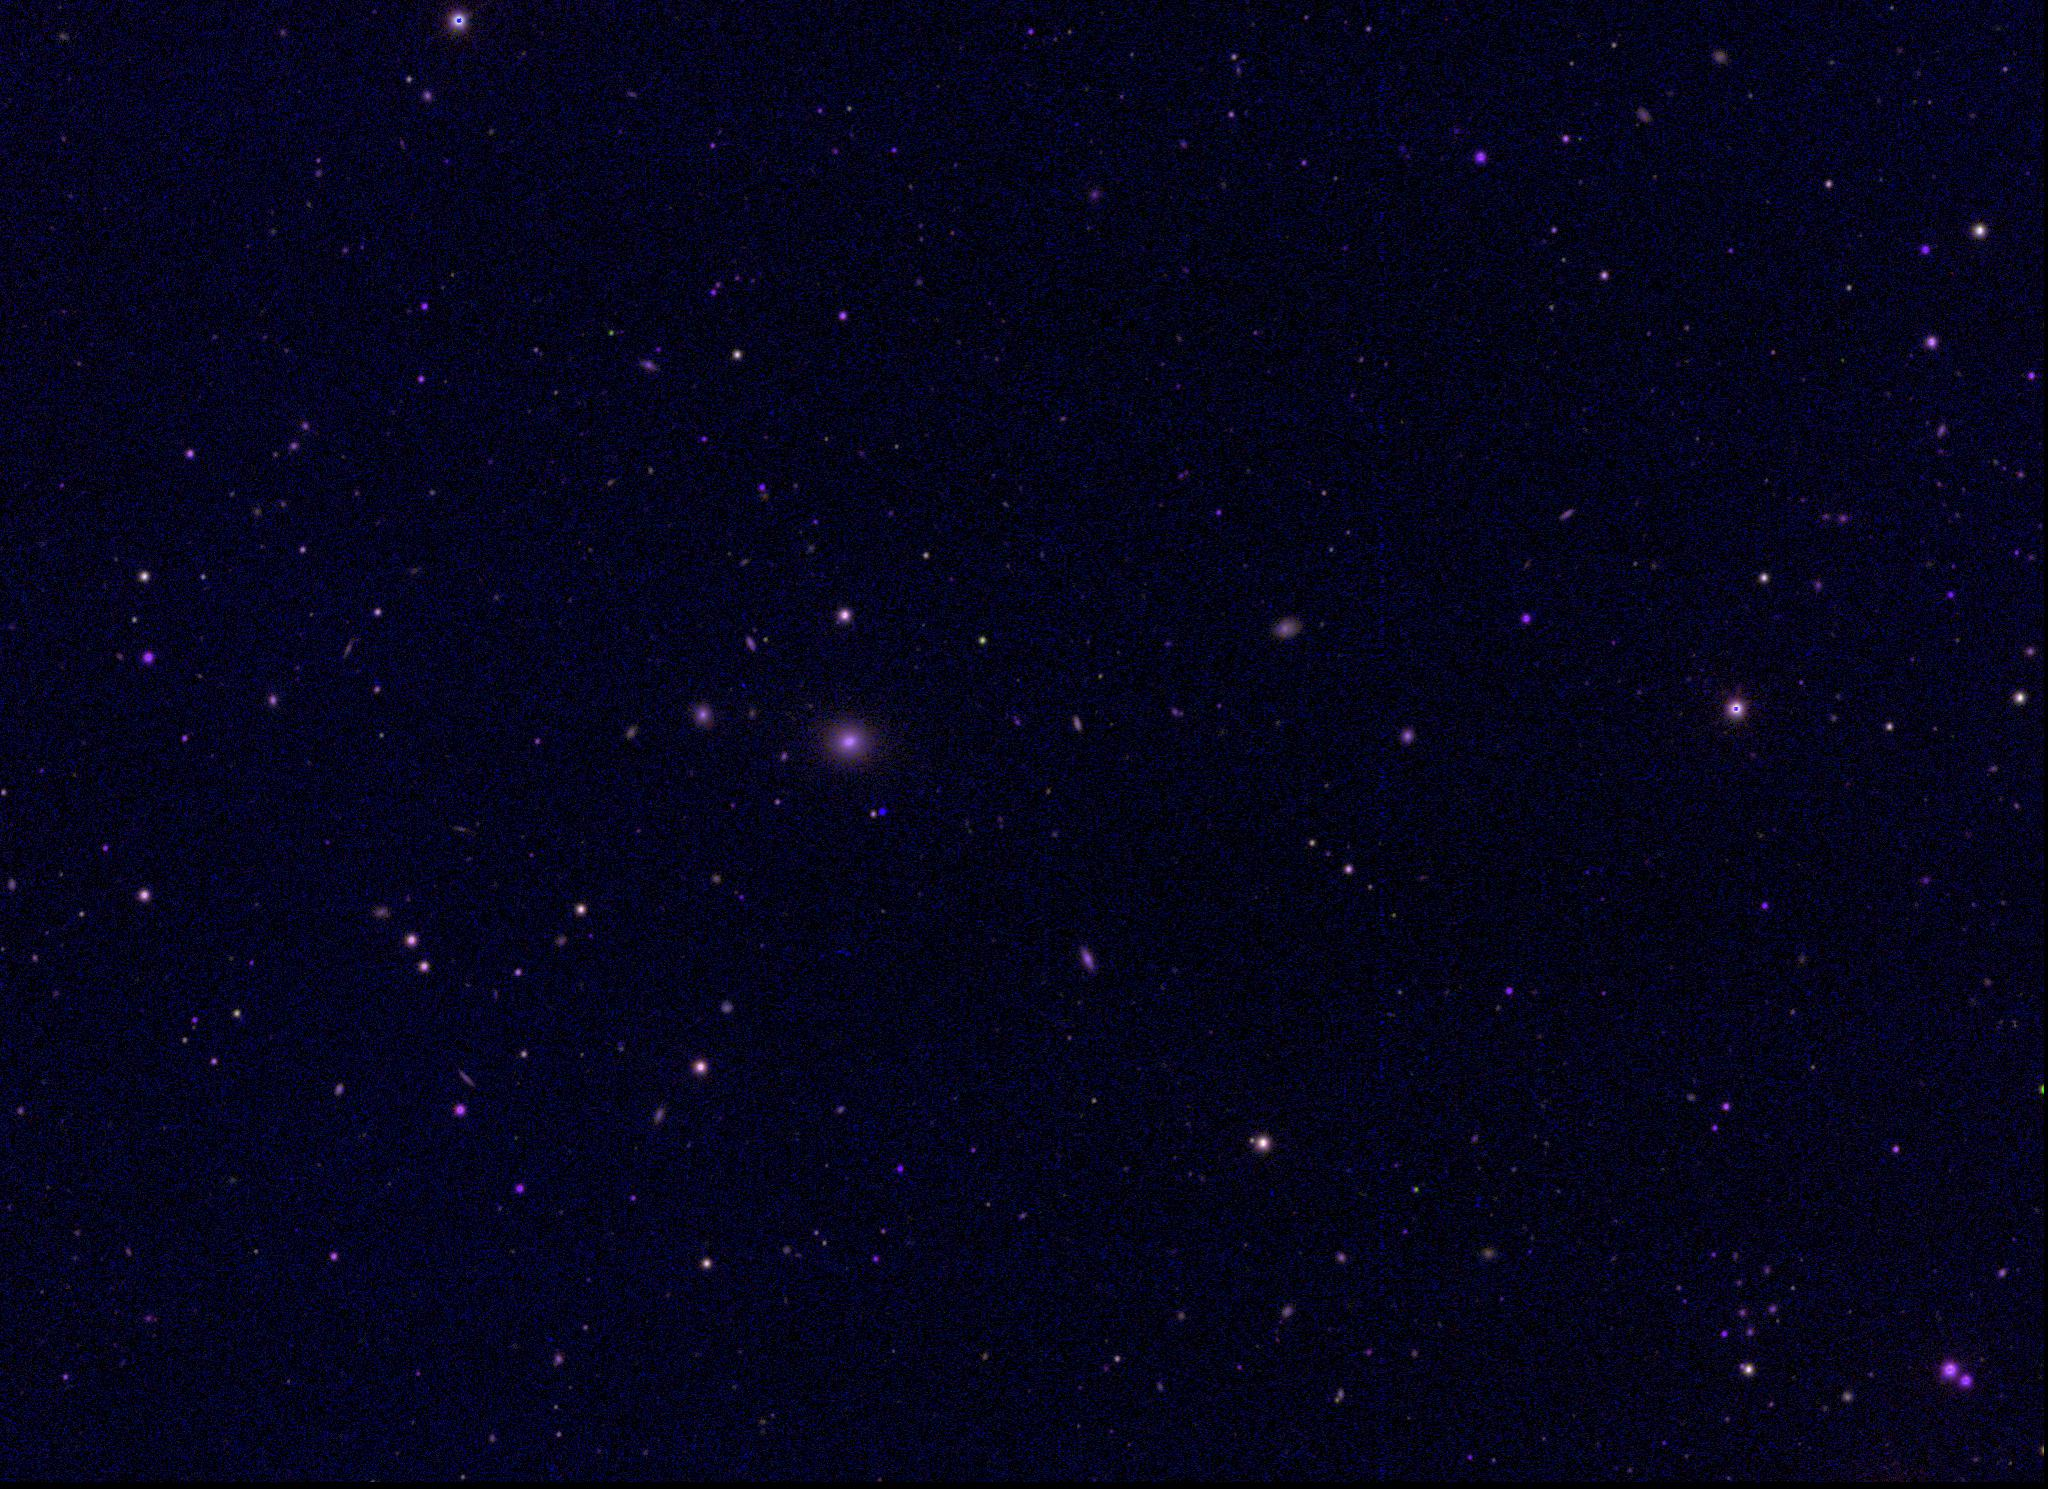L: (878, 807, 890, 819)
